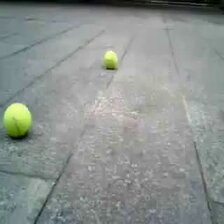tennis: (3, 103, 31, 135), (103, 53, 119, 68)
